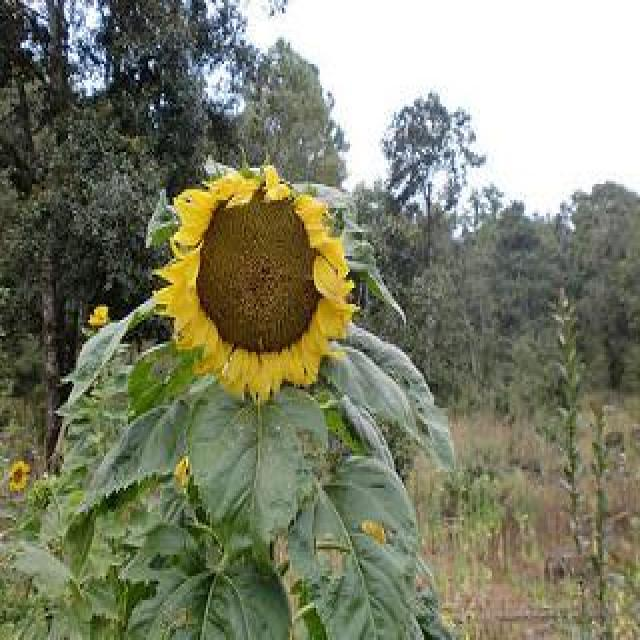sunflower: (154, 168, 360, 403), (10, 462, 28, 491)
